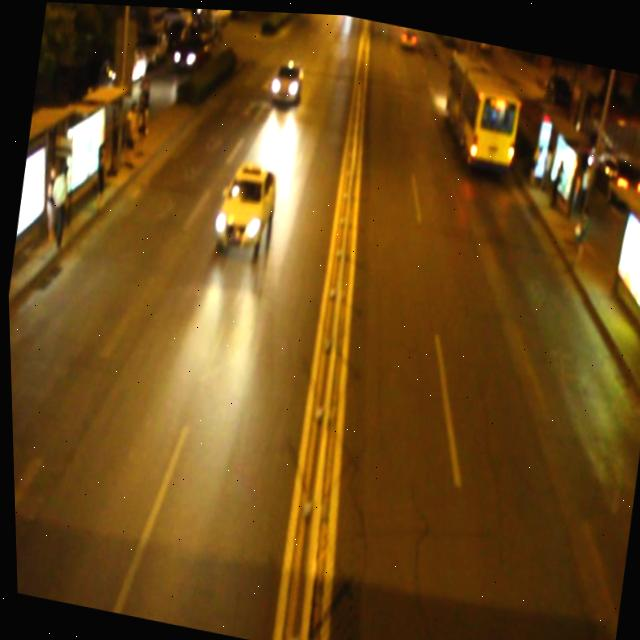car: (209, 154, 281, 249), (268, 52, 307, 103)
van: (435, 42, 526, 168)
